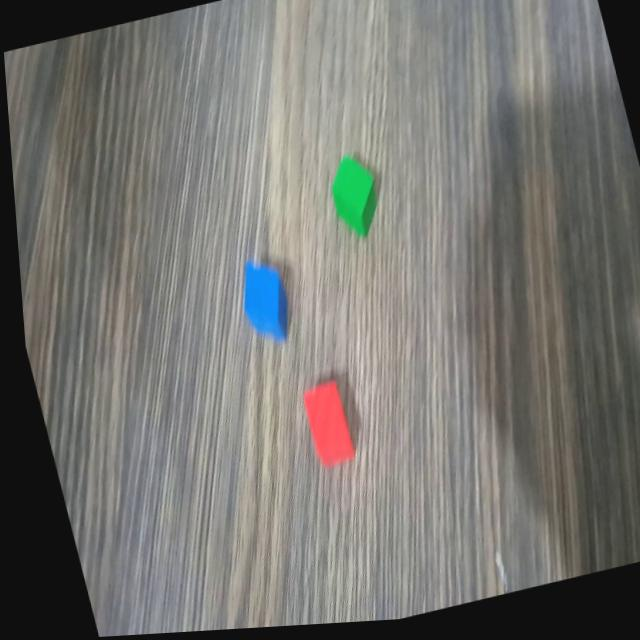cube: (316, 149, 388, 249), (226, 252, 294, 352), (290, 379, 354, 478)
